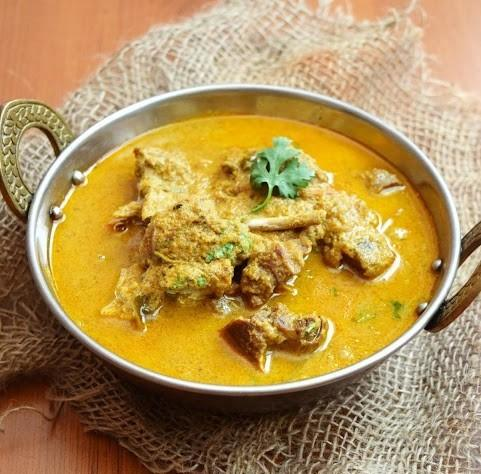MuttonCurry: (50, 112, 443, 388)
